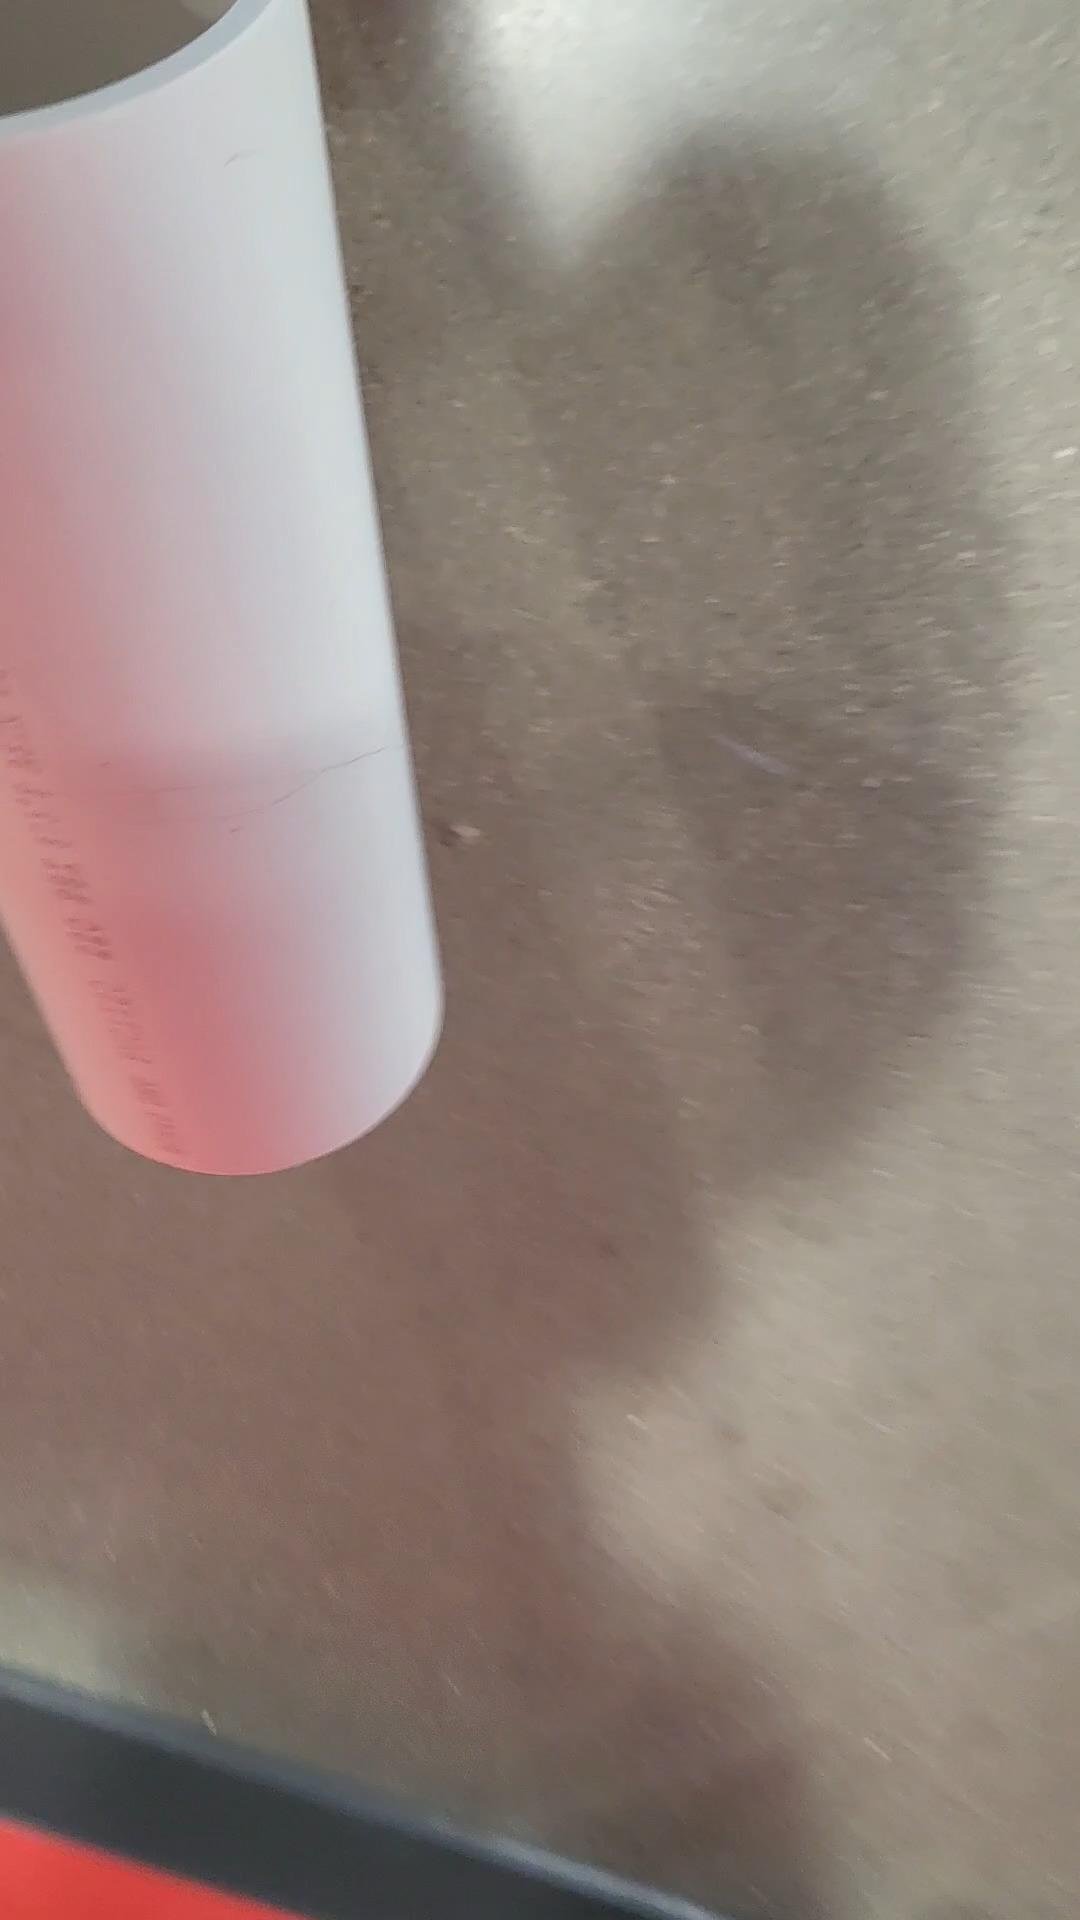coral: (0, 0, 447, 1185)
